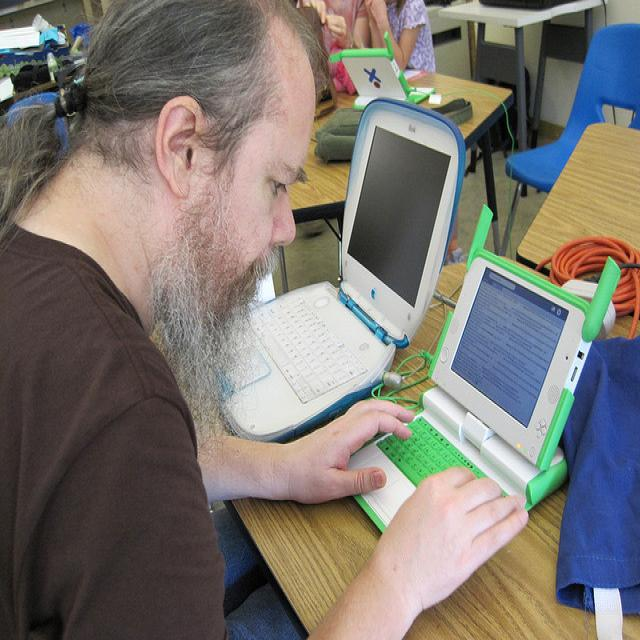chair: (499, 24, 640, 255)
dining table: (233, 250, 640, 631), (289, 50, 511, 223), (525, 117, 636, 325)
